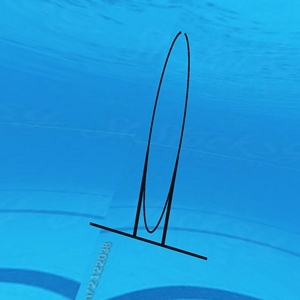circle: (88, 29, 217, 263)
